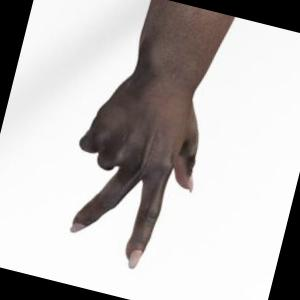scissors: (70, 0, 234, 268)
